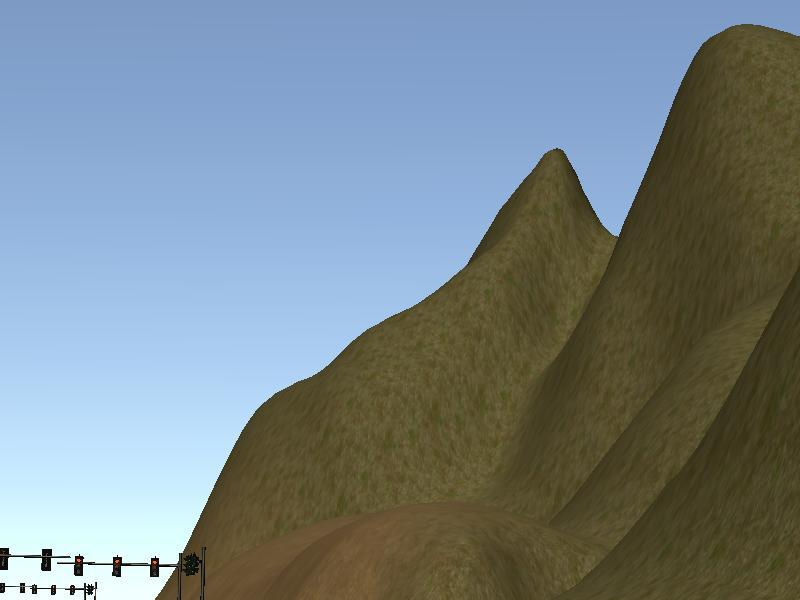Red: (73, 554, 84, 578), (149, 556, 160, 577), (112, 556, 121, 578)
